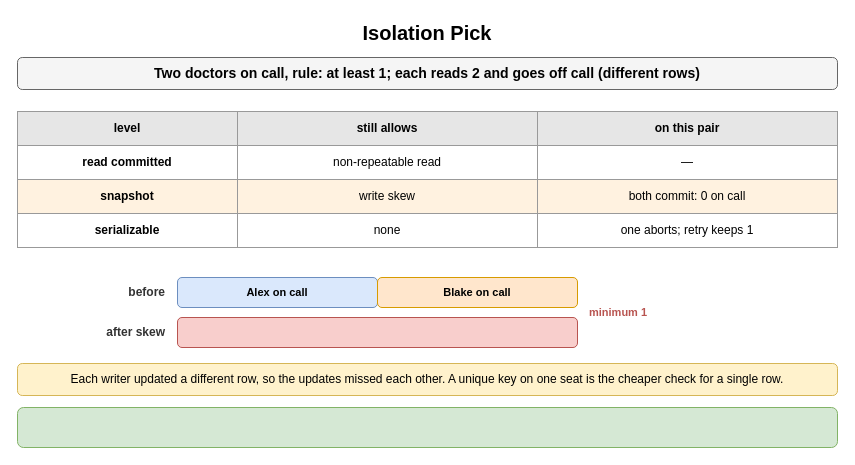
The diagram is 855 pixels wide and 465 high, and some of its shapes have lost their labels. The box of each missing label's shape, as (x1, y1, x2, y2) in pixels:
0 on call: (176, 316, 578, 348)
Answer: non-repeatable-read write-skew none 0 False: (16, 406, 838, 448)
